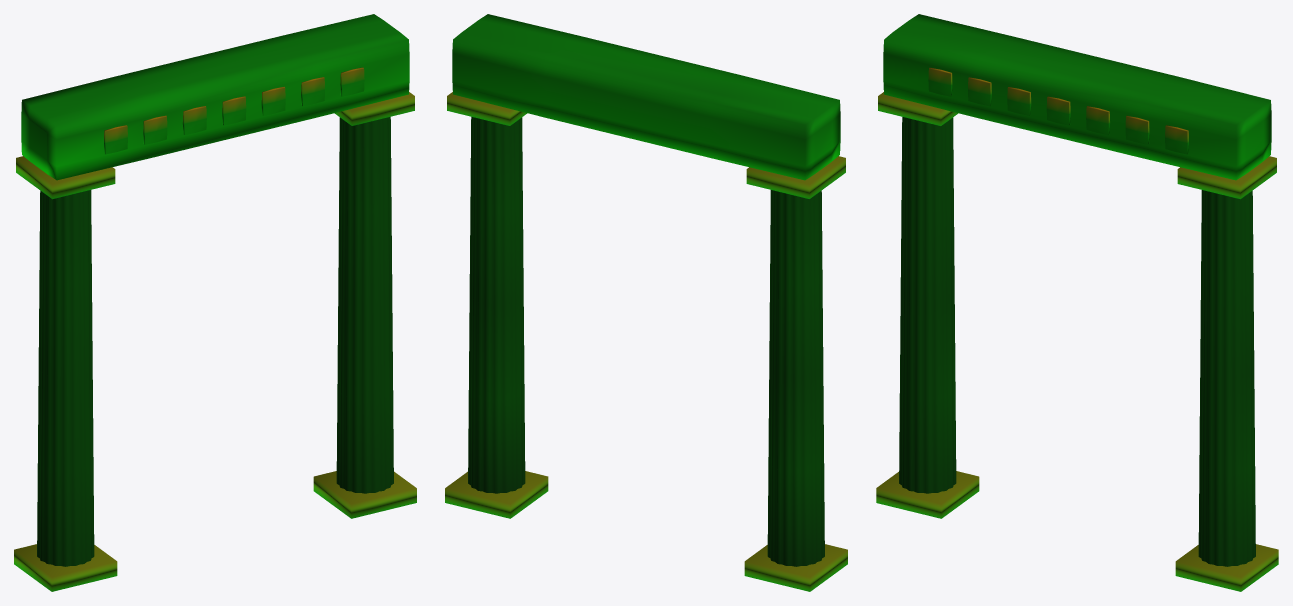
Rendered from iskarra_arch.glb.
3 views of the same model, side by side, from view 1: azimuth 30°, elevation 25°; view 2: azimuth 150°, elevation 25°; view 3: azimuth 330°, elevation 25° (orthographic).
Visible parts, largest first — view 1: iskarra_arch; view 2: iskarra_arch; view 3: iskarra_arch.
Boxes of the visible parts, <box> form: iskarra_arch: <box>14,14,416,591</box>; iskarra_arch: <box>445,14,847,591</box>; iskarra_arch: <box>876,14,1278,591</box>.
Size of what is drawn, in the model's own units: 9.26 by 11.28 by 1.71.
